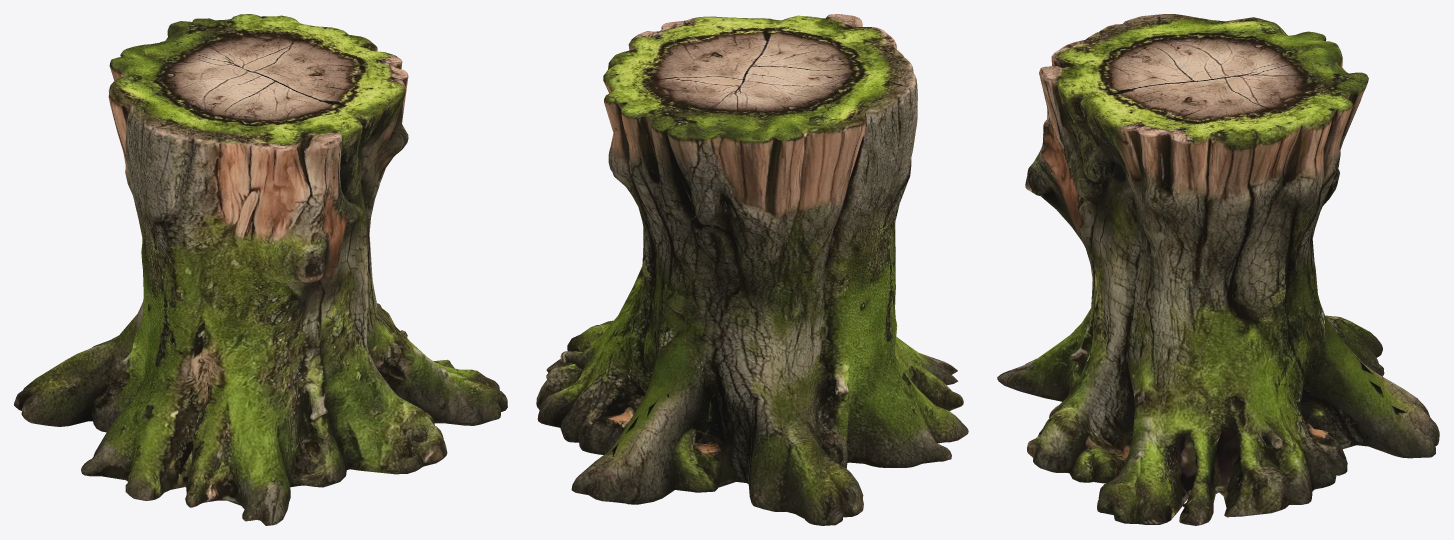
Rendered from stump-mossy-b.glb.
The picture shows the model from 3 angles, left to right: view 1: azimuth 30°, elevation 25°; view 2: azimuth 150°, elevation 25°; view 3: azimuth 270°, elevation 25°; orthographic projection.
Visible parts, largest first — view 1: Mesh_0; view 2: Mesh_0; view 3: Mesh_0.
Boxes of the visible parts, x1,y1,x2,y2 form: Mesh_0: [14, 14, 507, 525]; Mesh_0: [536, 14, 968, 525]; Mesh_0: [997, 14, 1439, 525].
Bounding box in the file's own units: 1.91 × 1.6 × 1.84.
1 material, 1 textured.
